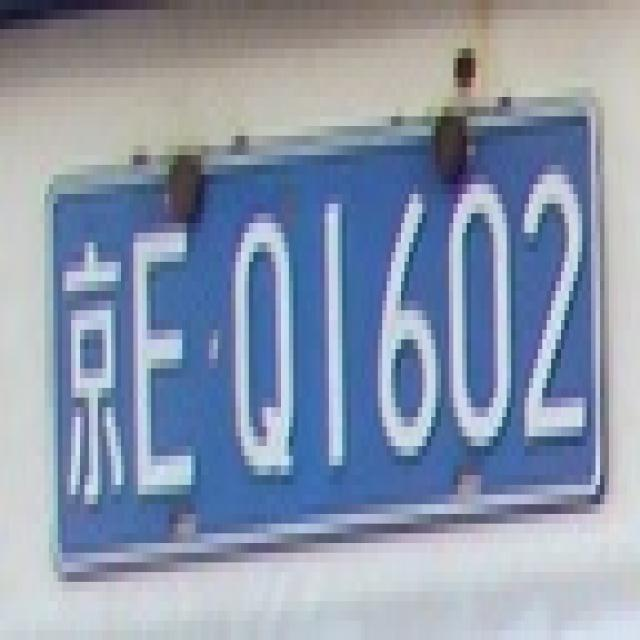LicensePlate: (29, 58, 621, 604)
